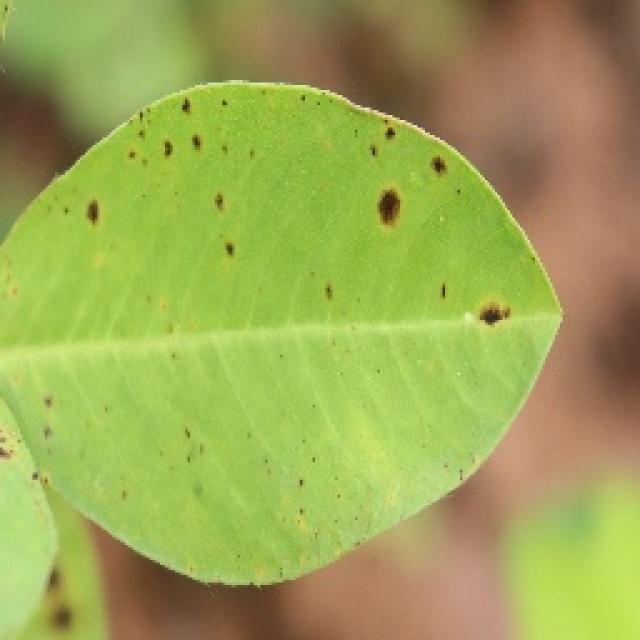Yellowish: (37, 96, 527, 381)
